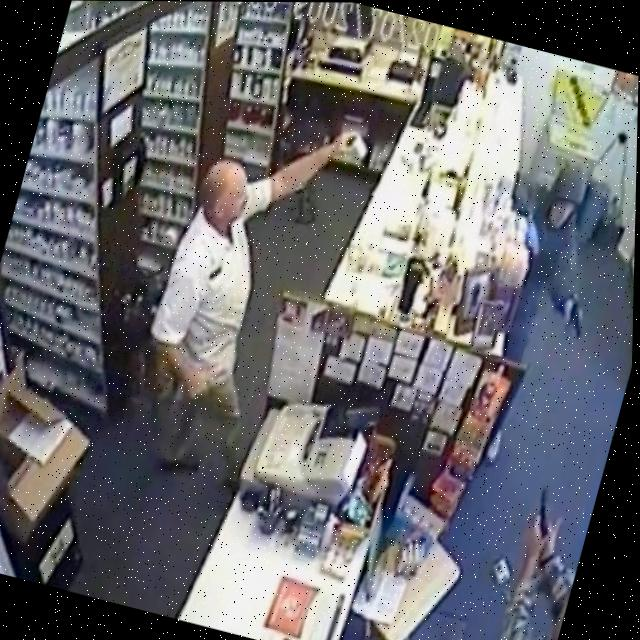pistol: (529, 481, 564, 539), (560, 299, 589, 334)
